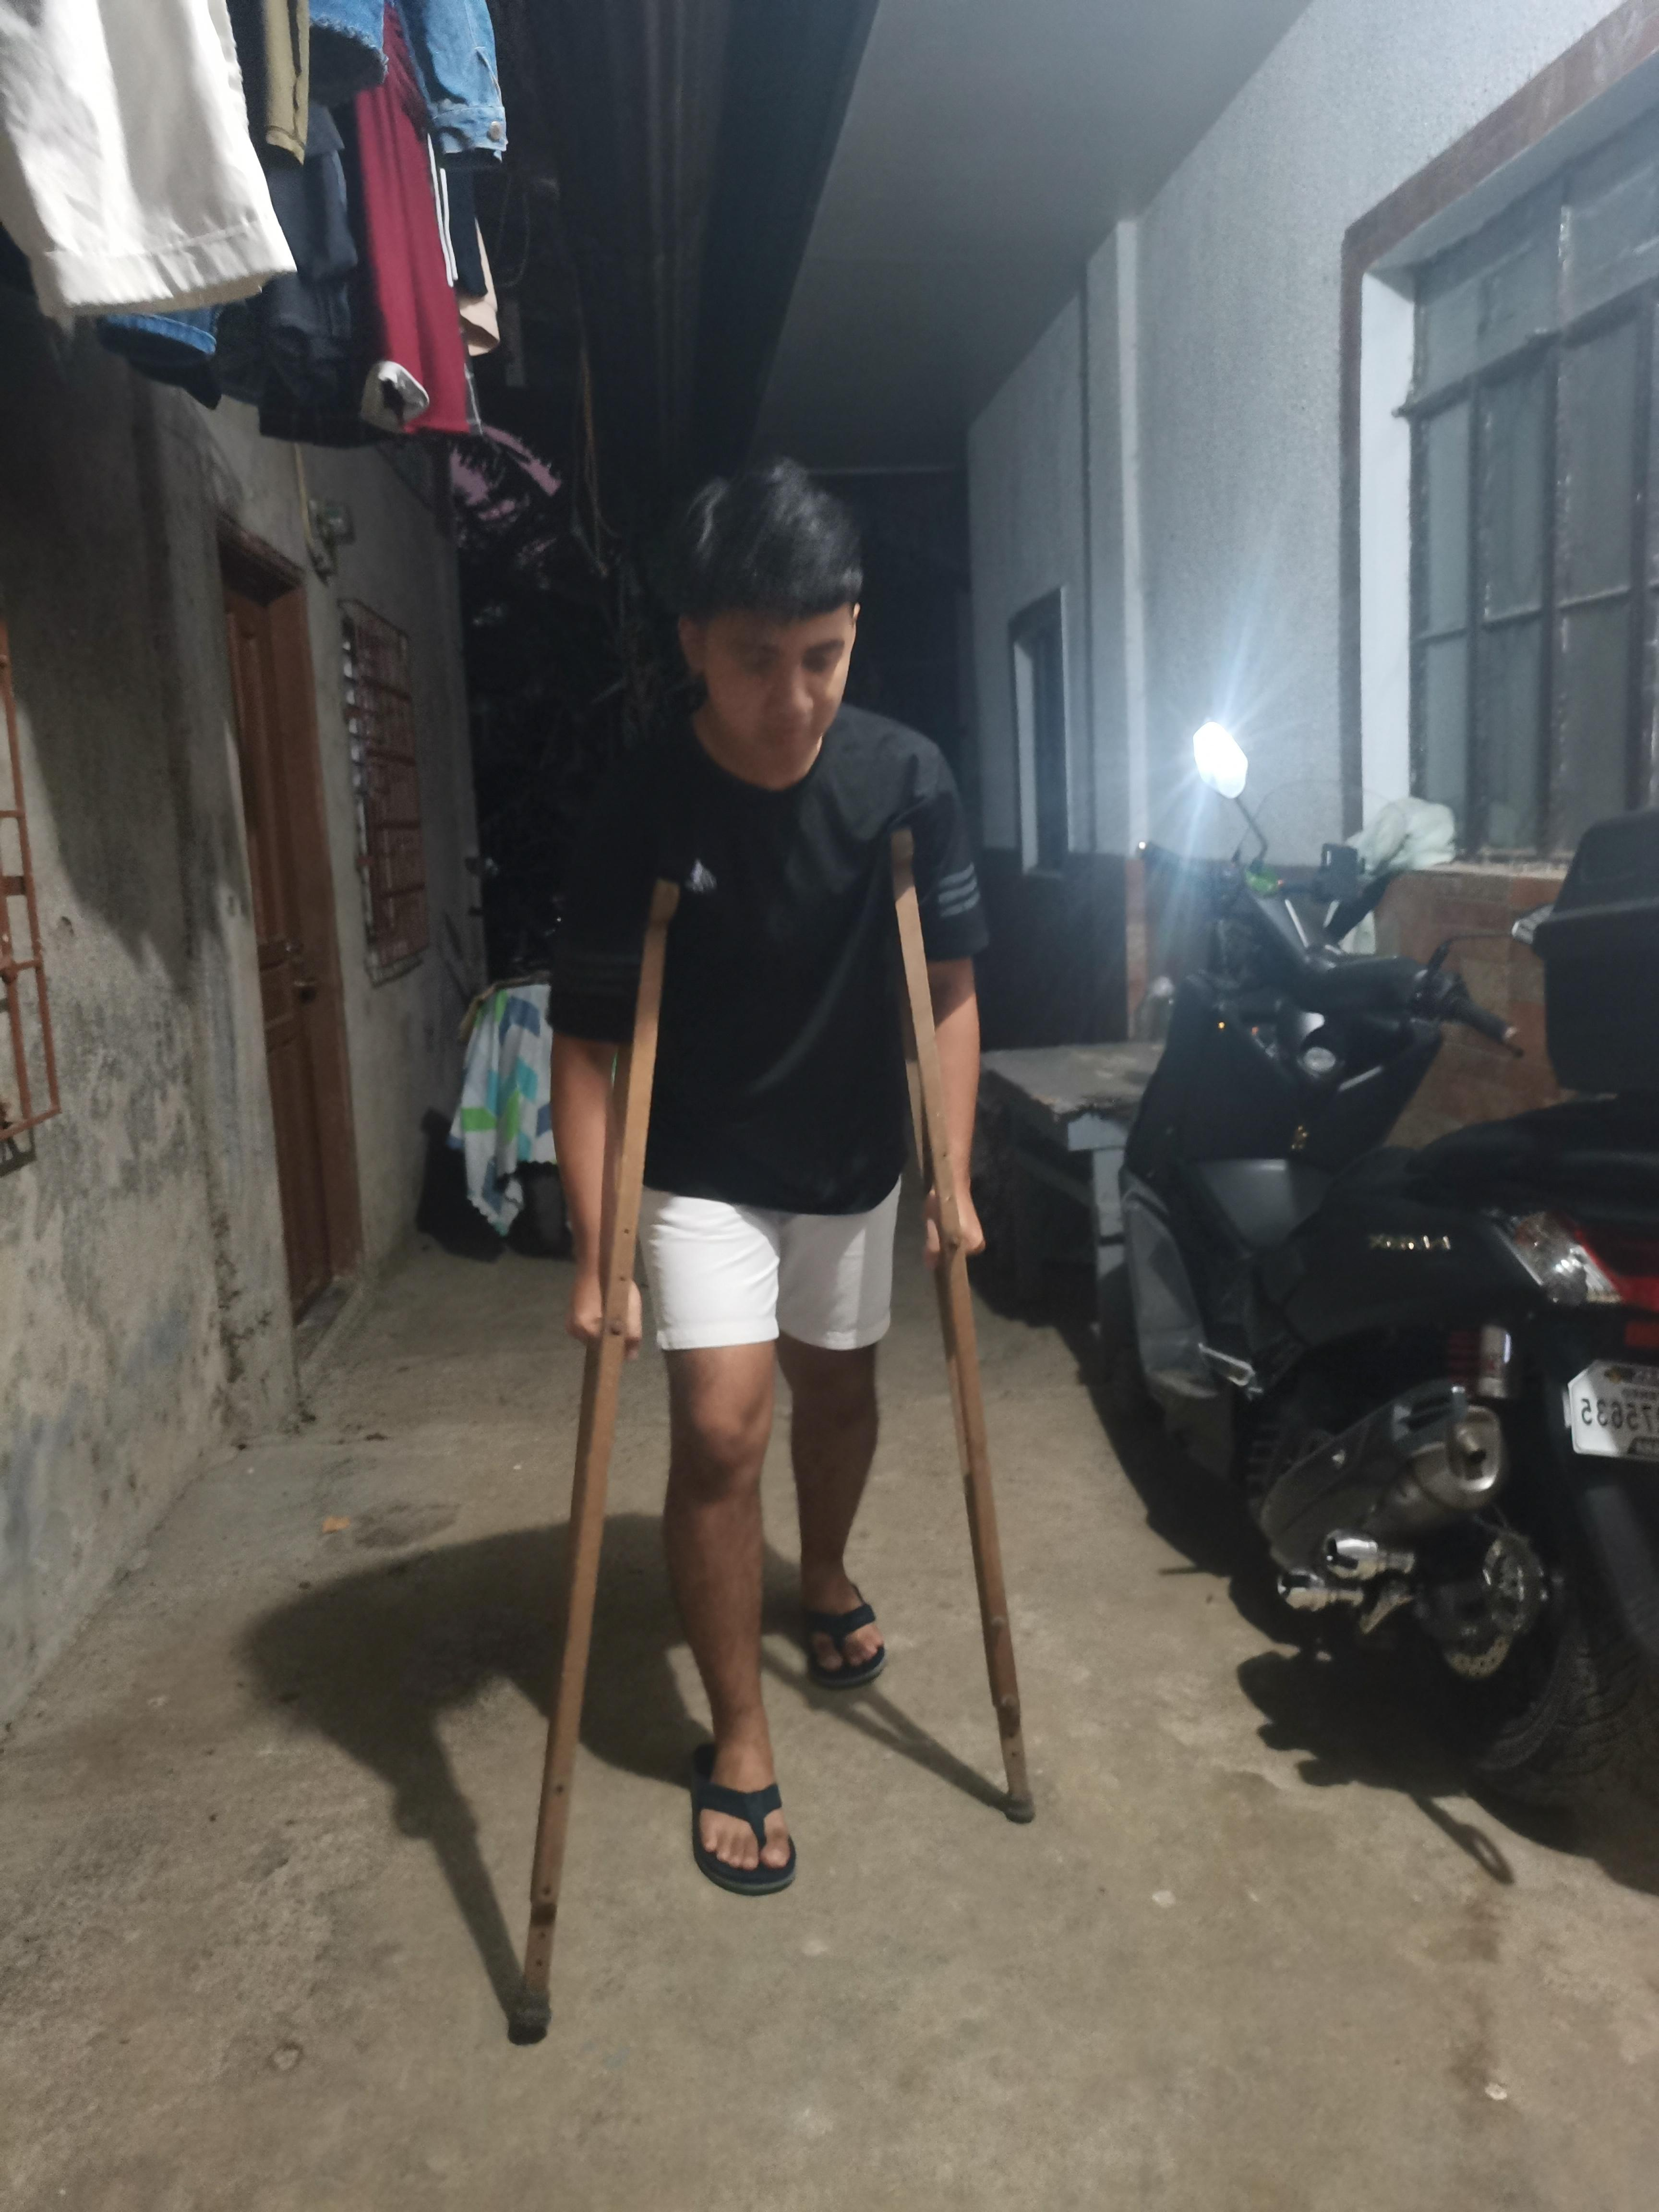crutches: (486, 428, 1047, 2069)
